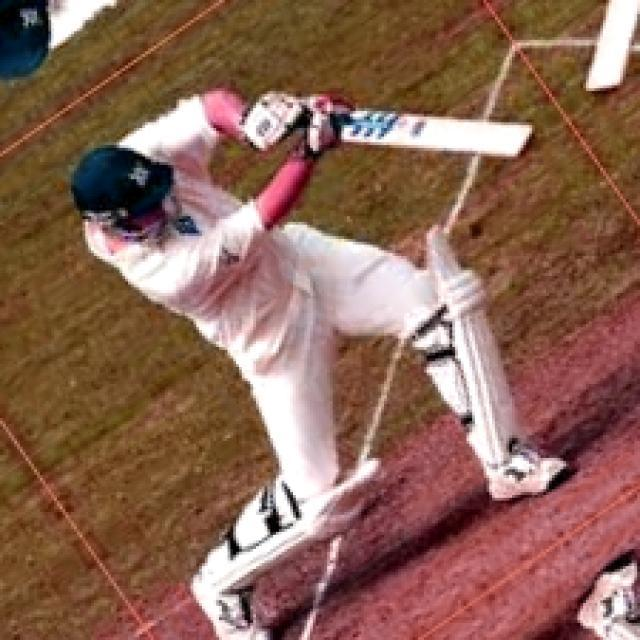bat: (331, 101, 536, 165)
